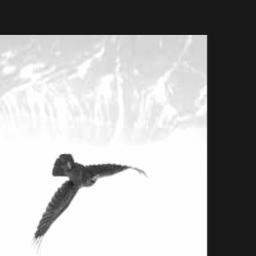Crow: (30, 153, 150, 256)
